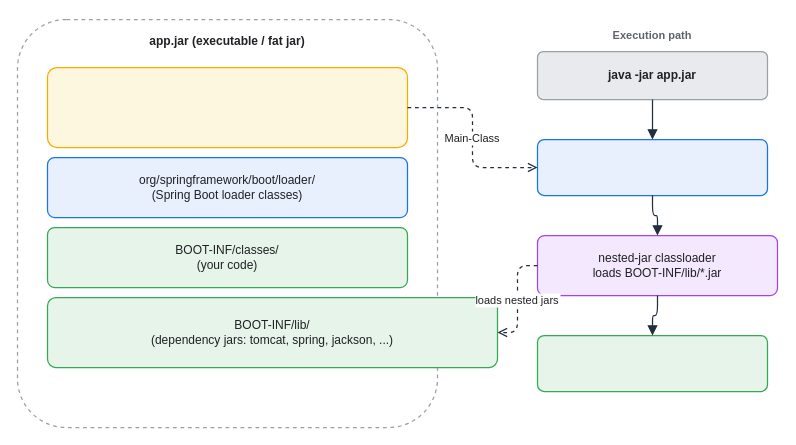
Image size: 796x445. Some labels were removed from this diagram. The shapes that lost their labels are listed below. From the top down, each one's box as (x1, y1, x2, y2) in pixels, then its label:
(46, 66, 408, 148): META-INF/MANIFEST.MF Main-Class: JarLauncher Start-Class: MyApplication
(536, 138, 768, 196): JarLauncher runs (Main-Class)
(536, 334, 768, 392): calls Start-Class main (MyApplication)
